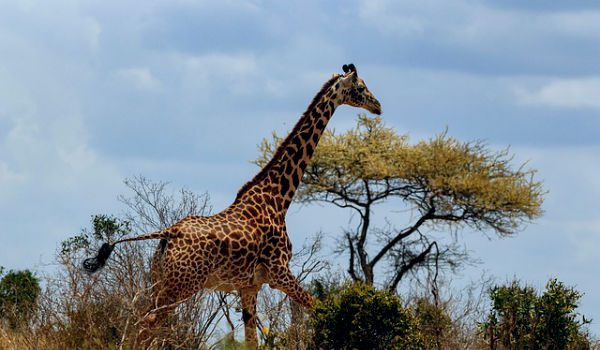Jirafa: (293, 57, 397, 155)
